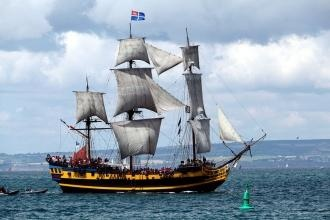fanchuan: (40, 1, 269, 190)
